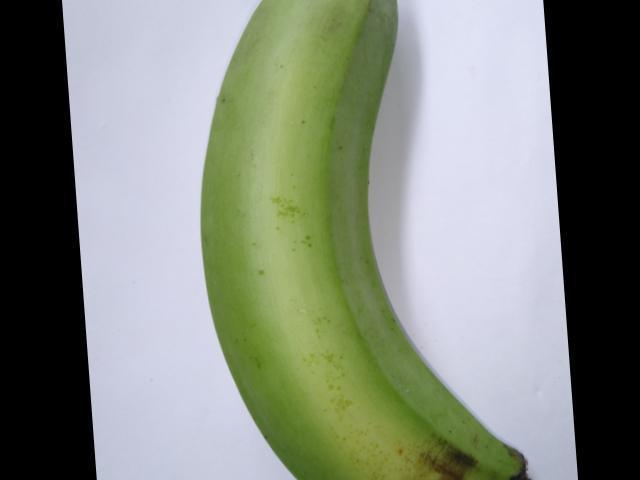freshunripe: (184, 0, 532, 479)
